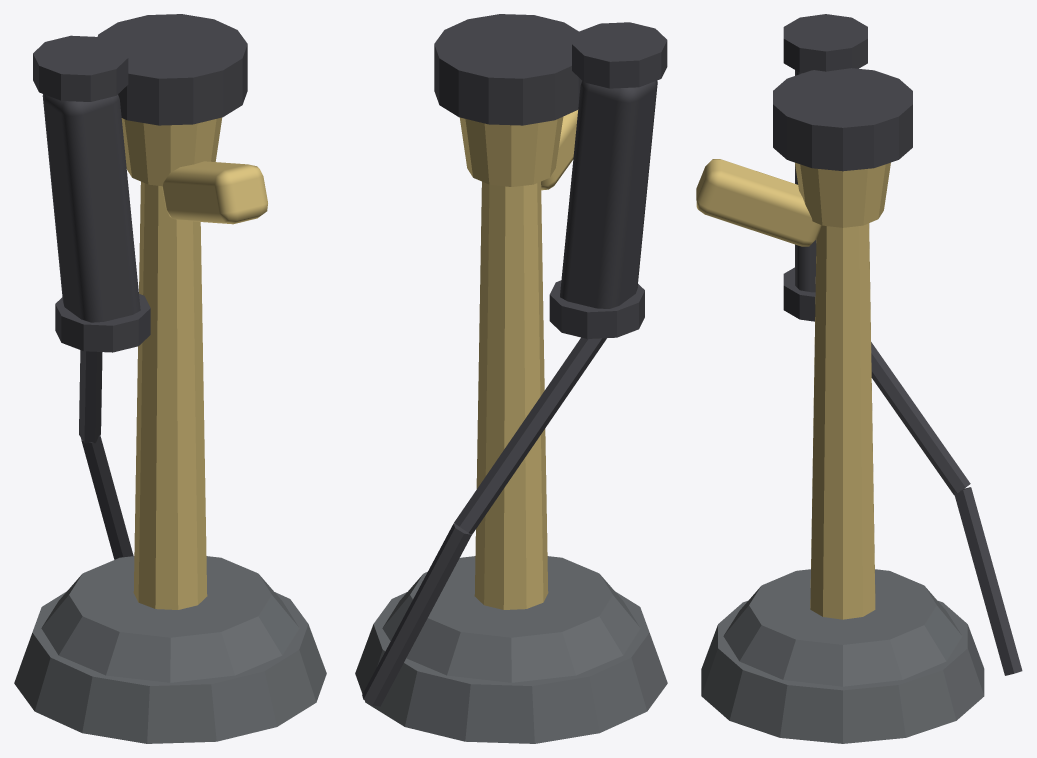
The model's file is printing-press-and-newspaper-office-candlestick-teleph-f7dfb54c__37756.glb.
3 views of the same model, side by side, from view 1: azimuth 30°, elevation 25°; view 2: azimuth 150°, elevation 25°; view 3: azimuth 270°, elevation 25° (orthographic). The views are drawn at different scales.
Visible parts, largest first — view 1: candlestick-telephone; view 2: candlestick-telephone; view 3: candlestick-telephone.
Part boxes in pixels (x1,y1,x2,y2): candlestick-telephone: (14,14,326,743); candlestick-telephone: (355,14,667,743); candlestick-telephone: (696,14,1022,743).
Size of the model in its own units: 0.173 by 0.391 by 0.191.
